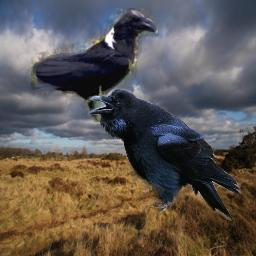Crow: (87, 88, 241, 221), (31, 8, 159, 122)
